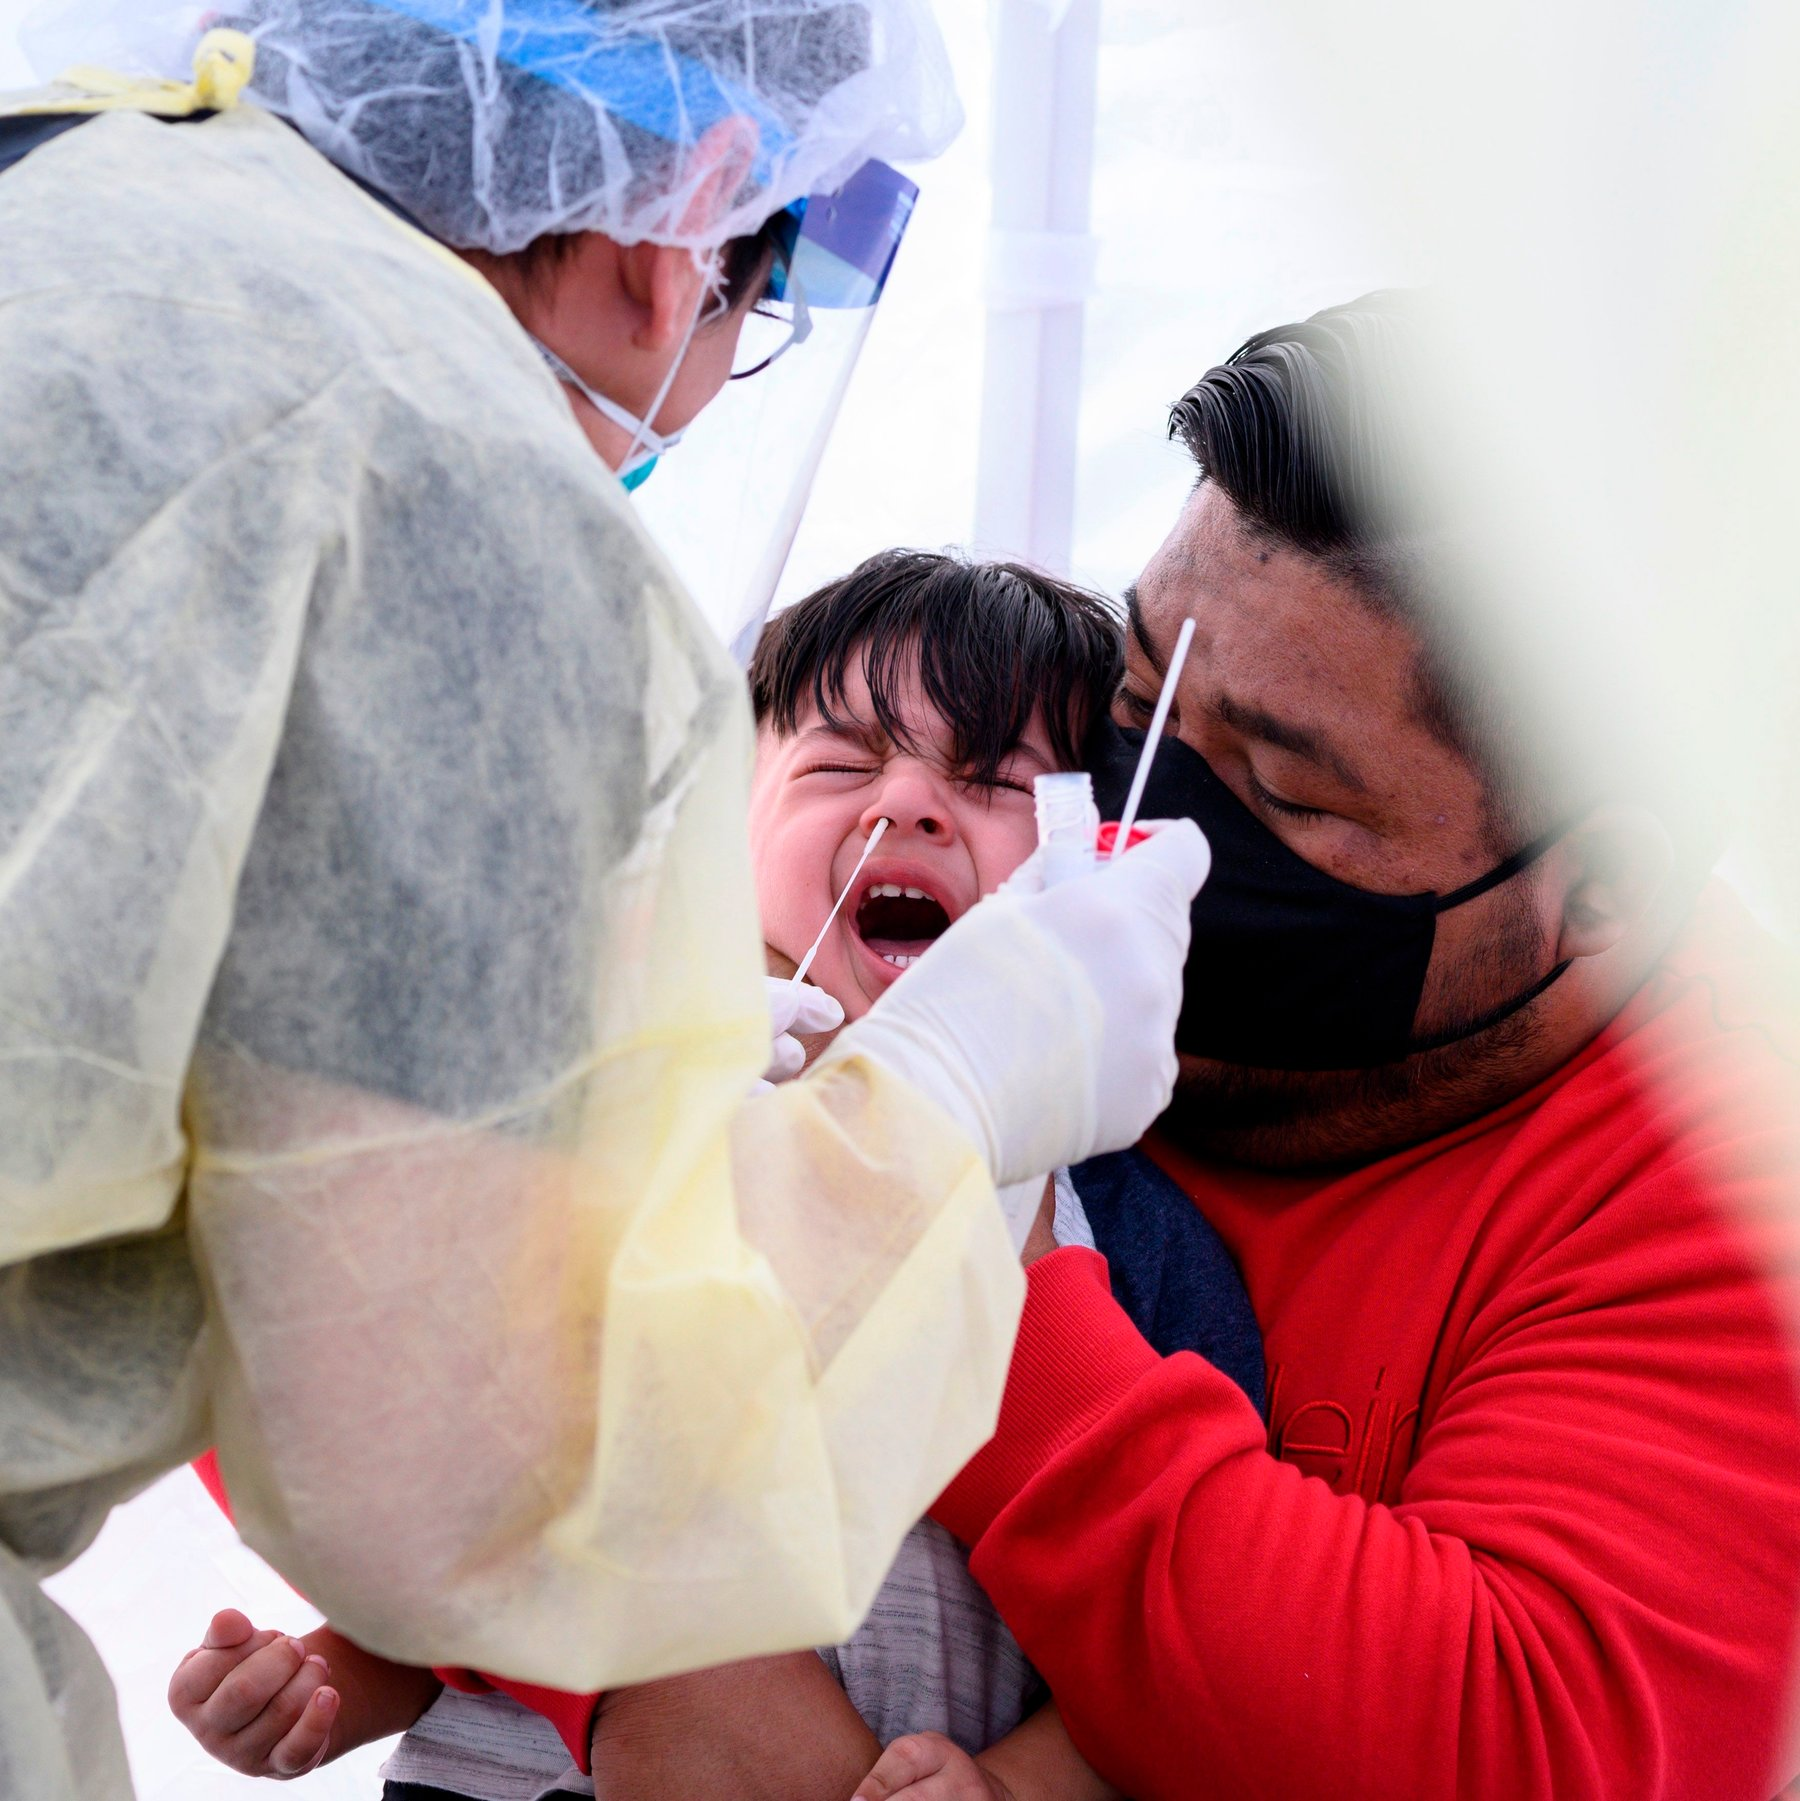Face_Shield: (575, 75, 946, 729)
Gloves: (821, 802, 1210, 1258)
with_mask: (1089, 658, 1419, 1106)
without_mask: (769, 713, 1058, 1013)
